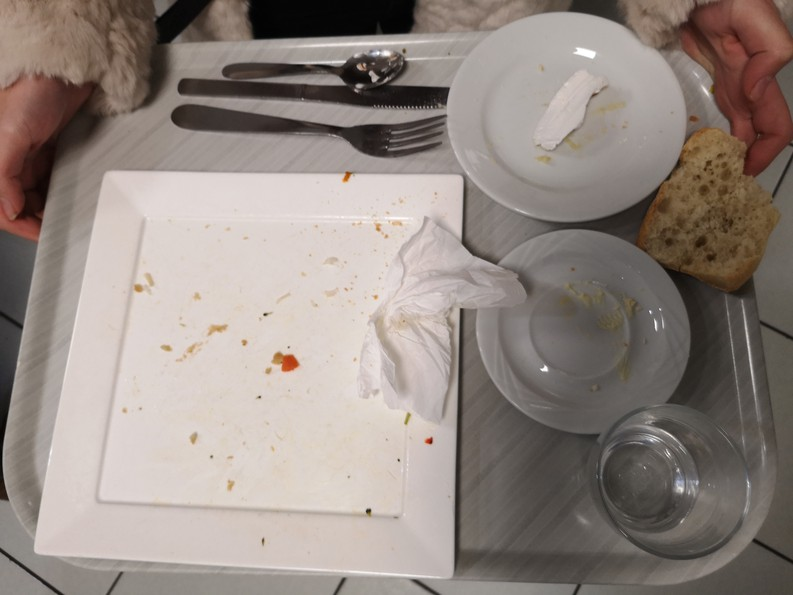cup: (599, 399, 753, 572)
cutlery: (161, 31, 472, 158)
orga: (663, 121, 780, 298)
trash: (361, 215, 529, 434), (536, 70, 599, 152)
